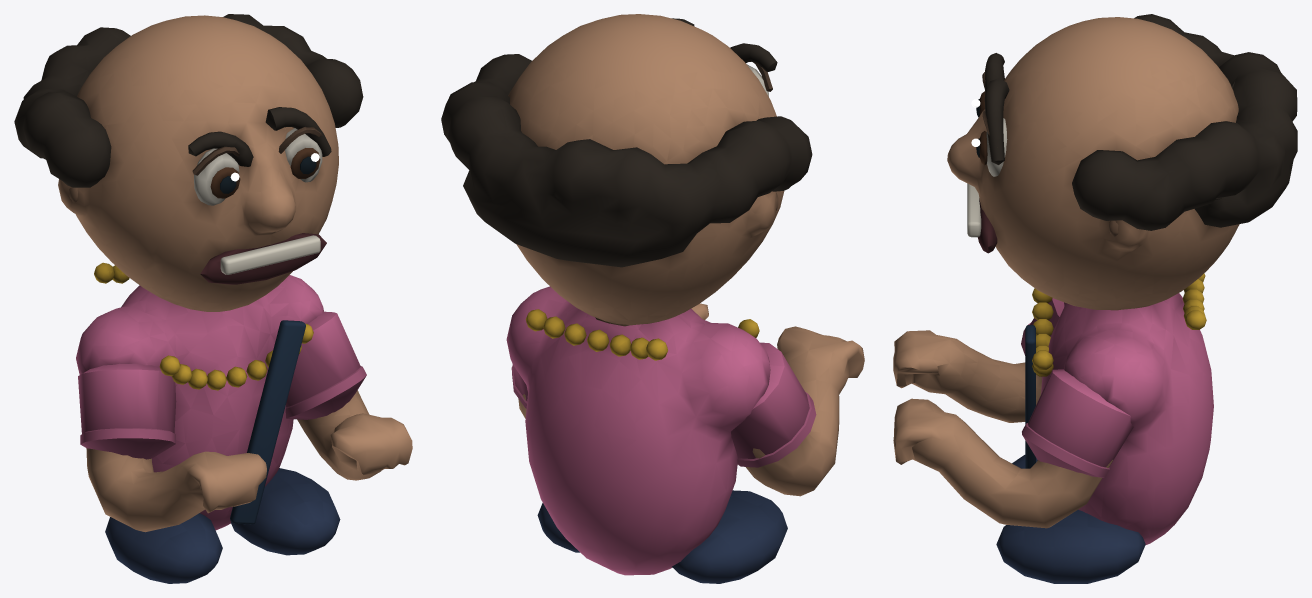
File: chete.glb
3 views of the same model, side by side, from view 1: azimuth 30°, elevation 25°; view 2: azimuth 150°, elevation 25°; view 3: azimuth 270°, elevation 25° (orthographic). The views are drawn at different scales.
Parts seen in each view (by area): view 1: chete-head-root-soft-d3a07c, chete-root-soft-f27fb2, chete-head-root-soft-332c25, chete-root-344465-r85, chete-arm-right-soft-d3a07c, chete-arm-right-f27fb2-r85, chete-arm-left-soft-d3a07c, chete-root-263b54-r70, chete-arm-left-f27fb2-r85, chete-root-f2c13a-r25, chete-head-root-332c25-r70, chete-arm-right-c2668e-r85 (+6 smaller); view 2: chete-root-soft-f27fb2, chete-head-root-soft-d3a07c, chete-head-root-soft-332c25, chete-arm-right-soft-d3a07c, chete-root-344465-r85, chete-arm-right-f27fb2-r85, chete-root-f2c13a-r25, chete-arm-right-c2668e-r85, chete-head-root-332c25-r70; view 3: chete-head-root-soft-d3a07c, chete-root-soft-f27fb2, chete-head-root-soft-332c25, chete-arm-left-soft-d3a07c, chete-arm-right-soft-d3a07c, chete-root-344465-r85, chete-arm-left-f27fb2-r85, chete-root-f2c13a-r25, chete-head-root-332c25-r70, chete-arm-left-c2668e-r85, chete-root-263b54-r70, chete-head-root-fff8e6-r30 (+1 smaller).
Part boxes in pixels (x1,y1,x2,y2): chete-head-root-soft-d3a07c: (58,15,338,311); chete-root-soft-f27fb2: (76,275,323,530); chete-head-root-soft-332c25: (14,14,363,187); chete-root-344465-r85: (105,468,340,583); chete-arm-right-soft-d3a07c: (86,448,266,532); chete-arm-right-f27fb2-r85: (78,363,176,433); chete-arm-left-soft-d3a07c: (297,390,412,480); chete-root-263b54-r70: (230,320,305,524); chete-arm-left-f27fb2-r85: (286,311,360,407); chete-root-f2c13a-r25: (94,262,313,390); chete-head-root-332c25-r70: (188,107,331,166); chete-arm-right-c2668e-r85: (80,428,175,459); chete-root-soft-f27fb2: (506,286,770,575); chete-head-root-soft-d3a07c: (508,14,784,325); chete-head-root-soft-332c25: (441,54,812,267); chete-arm-right-soft-d3a07c: (746,326,864,496); chete-root-344465-r85: (537,490,787,583); chete-arm-right-f27fb2-r85: (731,342,809,458); chete-root-f2c13a-r25: (525,309,759,360); chete-arm-right-c2668e-r85: (737,392,816,467); chete-head-root-332c25-r70: (672,18,777,71); chete-head-root-soft-d3a07c: (947,17,1239,310); chete-root-soft-f27fb2: (1041,293,1213,545); chete-head-root-soft-332c25: (1072,14,1297,230); chete-arm-left-soft-d3a07c: (893,398,1112,528); chete-arm-right-soft-d3a07c: (893,330,1042,422); chete-root-344465-r85: (996,455,1145,583); chete-arm-left-f27fb2-r85: (1028,369,1133,467); chete-root-f2c13a-r25: (1032,273,1206,376); chete-head-root-332c25-r70: (984,53,1009,164); chete-arm-left-c2668e-r85: (1022,423,1109,477); chete-root-263b54-r70: (1025,325,1035,468); chete-head-root-fff8e6-r30: (967,183,981,237).
Bounding box in the file's own units: 1.16 × 1.84 × 1.3.
